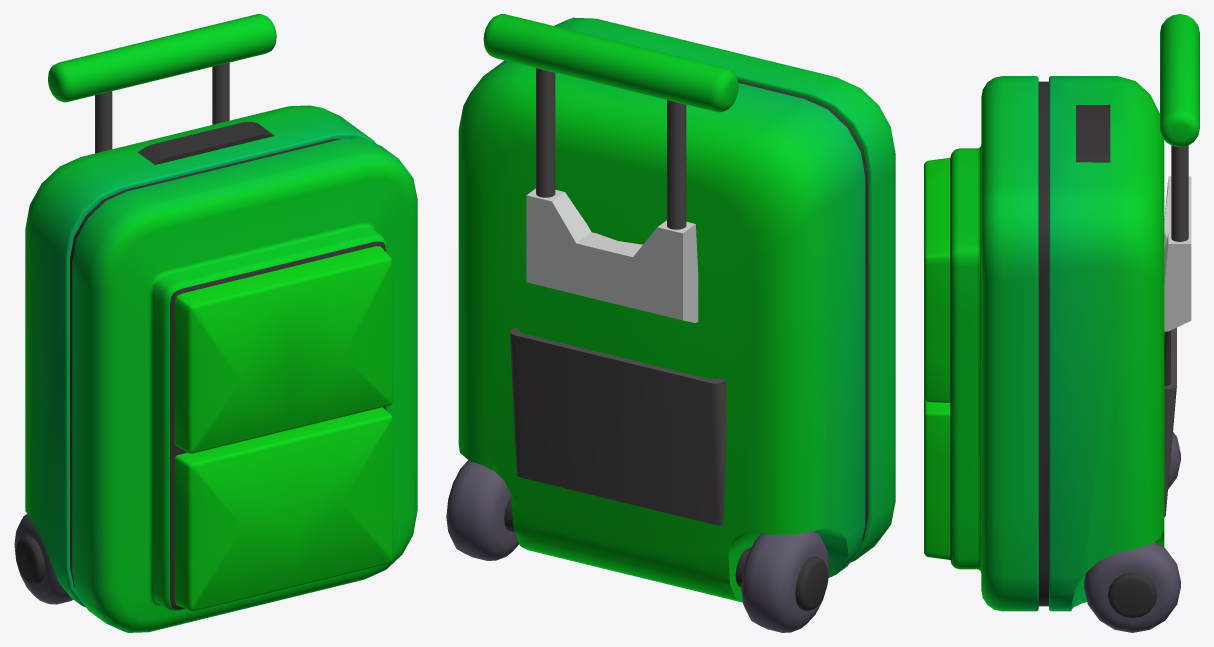
File: Baggage_4_Green.fbx
3 views of the same model, side by side, from view 1: azimuth 30°, elevation 25°; view 2: azimuth 150°, elevation 25°; view 3: azimuth 270°, elevation 25° (orthographic). The views are drawn at different scales.
Parts seen in each view (by area): view 1: Baggage_4_Green; view 2: Baggage_4_Green; view 3: Baggage_4_Green.
Boxes of the visible parts, <box> form: Baggage_4_Green: <box>14,14,417,632</box>; Baggage_4_Green: <box>446,14,895,632</box>; Baggage_4_Green: <box>924,14,1199,632</box>.
Bounding box in the file's own units: 62.48 × 93.72 × 46.68.
